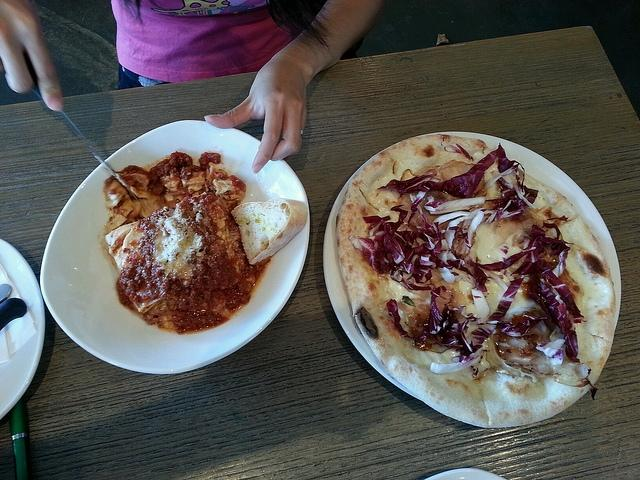onion: (427, 146, 499, 198), (535, 260, 587, 324), (474, 246, 536, 272), (488, 278, 524, 321), (557, 302, 578, 360), (500, 314, 550, 338), (424, 196, 486, 212), (430, 355, 480, 374), (433, 208, 487, 224), (488, 163, 523, 187), (536, 339, 566, 366), (429, 286, 443, 334), (484, 200, 512, 223), (471, 288, 490, 317), (447, 260, 472, 276), (453, 352, 475, 364), (448, 226, 464, 239), (402, 232, 414, 248), (424, 233, 435, 250), (408, 264, 426, 274), (450, 322, 462, 336), (374, 240, 387, 252), (394, 232, 406, 243), (378, 251, 390, 262), (420, 260, 436, 266)
